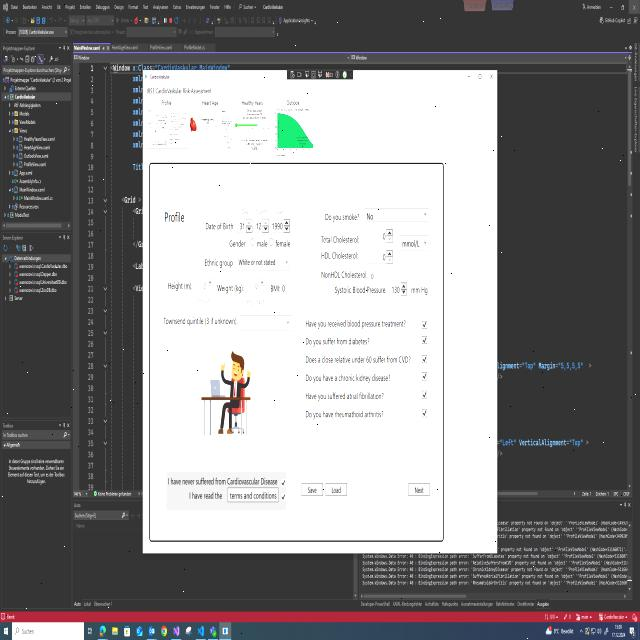button: (226, 486, 280, 505), (406, 477, 432, 503), (300, 480, 325, 500), (325, 478, 348, 499), (484, 71, 496, 85), (462, 71, 474, 84), (474, 71, 484, 84)
checkbox: (418, 405, 430, 420), (419, 386, 430, 402), (419, 369, 430, 384), (419, 352, 429, 366), (420, 332, 429, 347), (420, 317, 429, 330), (279, 476, 287, 490), (280, 491, 288, 505)
dropdownMenu: (363, 203, 431, 227), (234, 250, 294, 274), (239, 311, 293, 333), (399, 230, 432, 254)
input: (12, 623, 84, 640)
label: (301, 405, 388, 425), (303, 351, 416, 366), (302, 386, 394, 404), (301, 369, 395, 385), (166, 474, 277, 486), (301, 319, 408, 331), (163, 314, 239, 329), (302, 334, 373, 348), (320, 270, 375, 282), (334, 284, 389, 296), (318, 232, 361, 247), (146, 87, 214, 96), (160, 208, 190, 228), (319, 250, 361, 264), (322, 212, 362, 225), (203, 220, 237, 233), (188, 489, 224, 501), (216, 281, 243, 295), (165, 279, 194, 292), (203, 257, 235, 268), (241, 299, 275, 308), (228, 237, 248, 252), (195, 97, 221, 108), (268, 281, 287, 296), (149, 71, 173, 82), (409, 284, 428, 296), (242, 99, 267, 108), (195, 297, 215, 308), (158, 96, 176, 108), (274, 239, 294, 249), (255, 202, 269, 215), (285, 97, 302, 107), (256, 240, 269, 251), (274, 206, 285, 217), (240, 207, 252, 217)
radio: (247, 235, 257, 250), (268, 235, 276, 252)
upDown: (363, 227, 395, 246), (363, 247, 394, 266), (246, 276, 267, 294), (390, 279, 408, 297), (195, 277, 214, 294), (270, 218, 290, 234), (253, 218, 270, 235), (238, 216, 254, 234)
